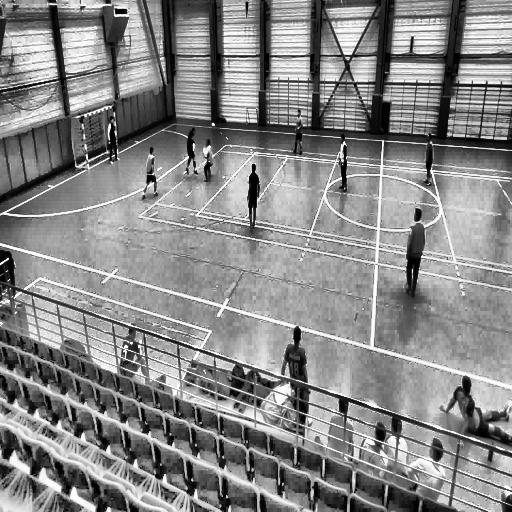ball: (210, 120, 216, 133)
player: (403, 206, 425, 298), (246, 162, 260, 233), (143, 146, 159, 198), (423, 131, 435, 187), (185, 127, 198, 178), (337, 132, 348, 191), (107, 114, 118, 164), (292, 107, 303, 155), (203, 137, 214, 184)
